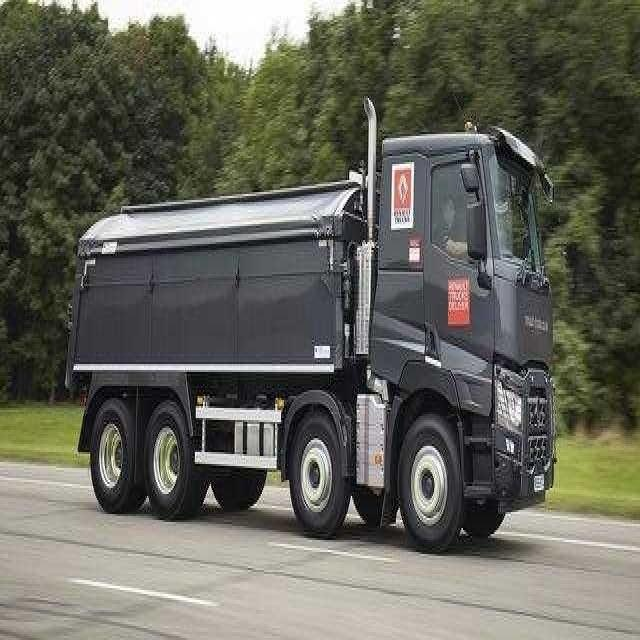Truck: (66, 102, 558, 554)
